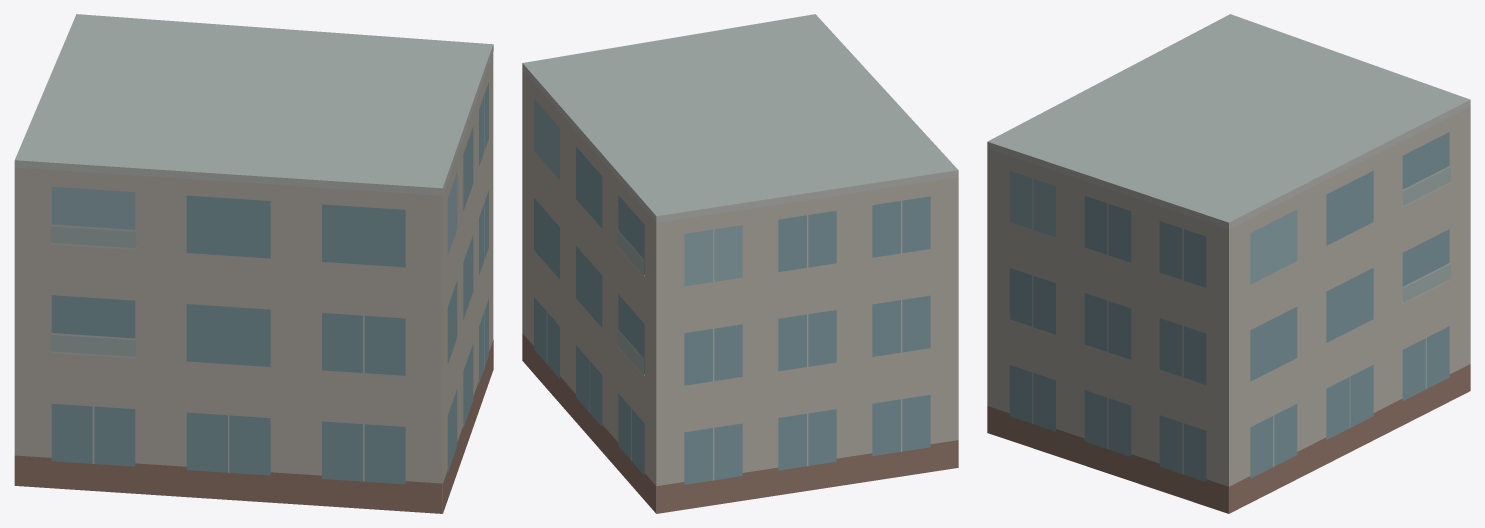
The model's file is survey-upis-32851462.glb.
The picture shows the model from 3 angles, left to right: view 1: azimuth 30°, elevation 25°; view 2: azimuth 150°, elevation 25°; view 3: azimuth 270°, elevation 25°; orthographic projection. The views are drawn at different scales.
Visible parts, largest first — view 1: survey-upis-32851462.tmp; view 2: survey-upis-32851462.tmp; view 3: survey-upis-32851462.tmp.
Boxes of the visible parts, <box> form: survey-upis-32851462.tmp: <box>14,14,493,513</box>; survey-upis-32851462.tmp: <box>522,14,958,513</box>; survey-upis-32851462.tmp: <box>987,14,1470,513</box>.
Bounding box in the file's own units: 16.6 × 10.8 × 16.25.
